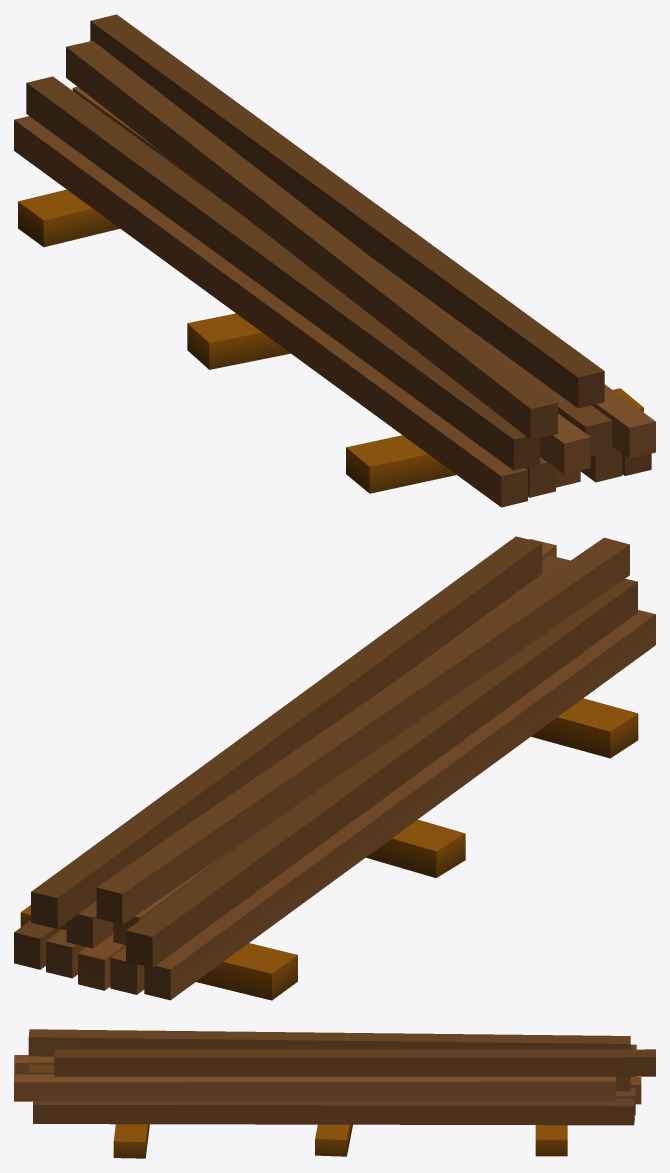
Rendered from WoodStock_3.fbx.
3 views of the same model, one above another, from view 1: azimuth 30°, elevation 25°; view 2: azimuth 150°, elevation 25°; view 3: azimuth 270°, elevation 25° (orthographic). The views are drawn at different scales.
Parts seen in each view (by area): view 1: WoodStock_3; view 2: WoodStock_3; view 3: WoodStock_3.
Part boxes in pixels (left/top/right/bottom): WoodStock_3: left=14, top=14, right=655, bottom=507; WoodStock_3: left=14, top=536, right=655, bottom=1000; WoodStock_3: left=14, top=1029, right=655, bottom=1158.
Bounding box in the file's own units: 108 × 46.05 × 362.
